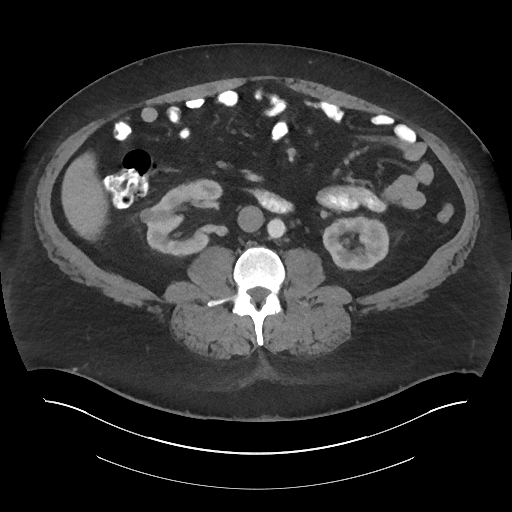Lesion: (139, 207, 156, 222)
